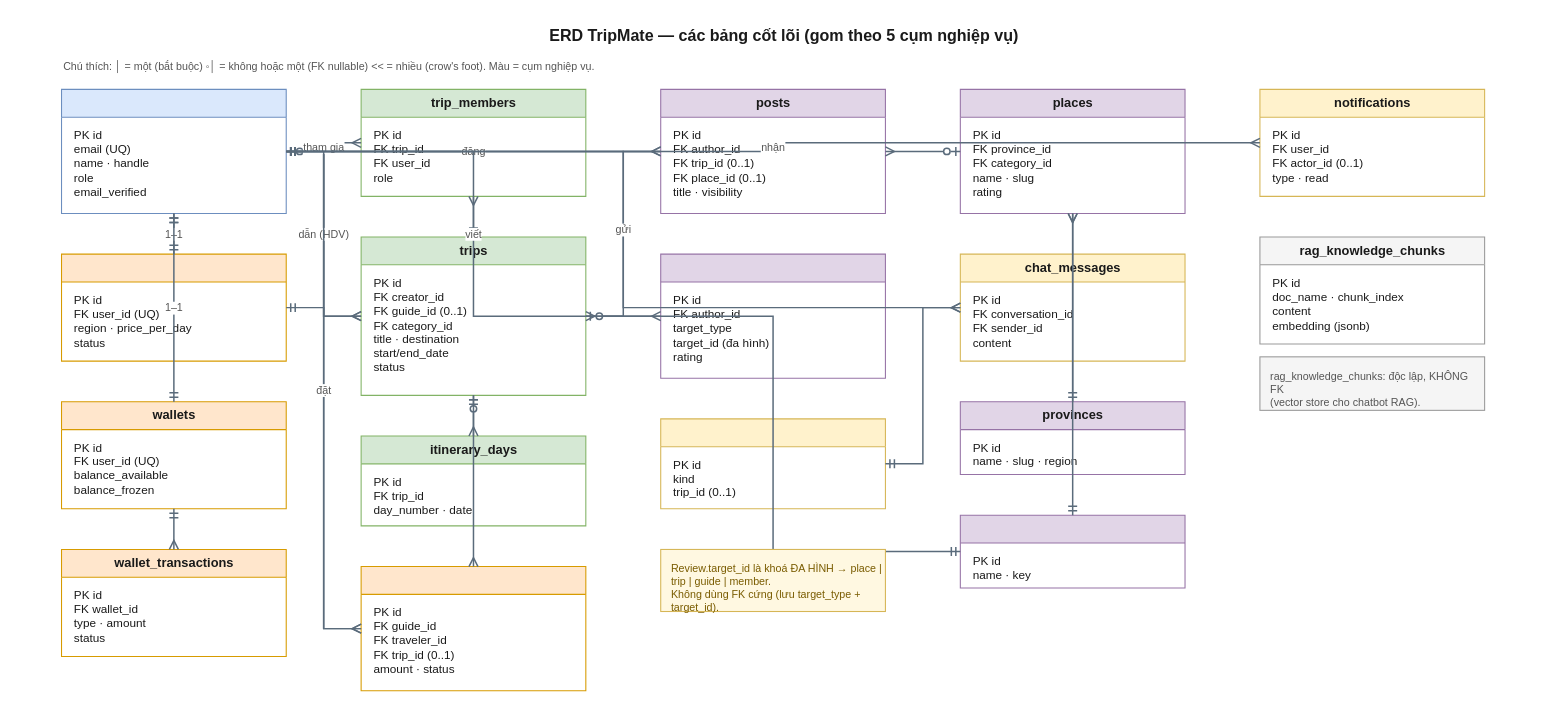
This 1566x709 diagram has some shape labels left out. Each missing label, with the box of its shape:
categories: (959, 514, 1185, 588)
conversations: (660, 418, 885, 509)
guide_bookings: (360, 565, 586, 691)
guide_profiles: (60, 253, 286, 361)
reviews: (660, 253, 885, 378)
users: (60, 88, 286, 213)
